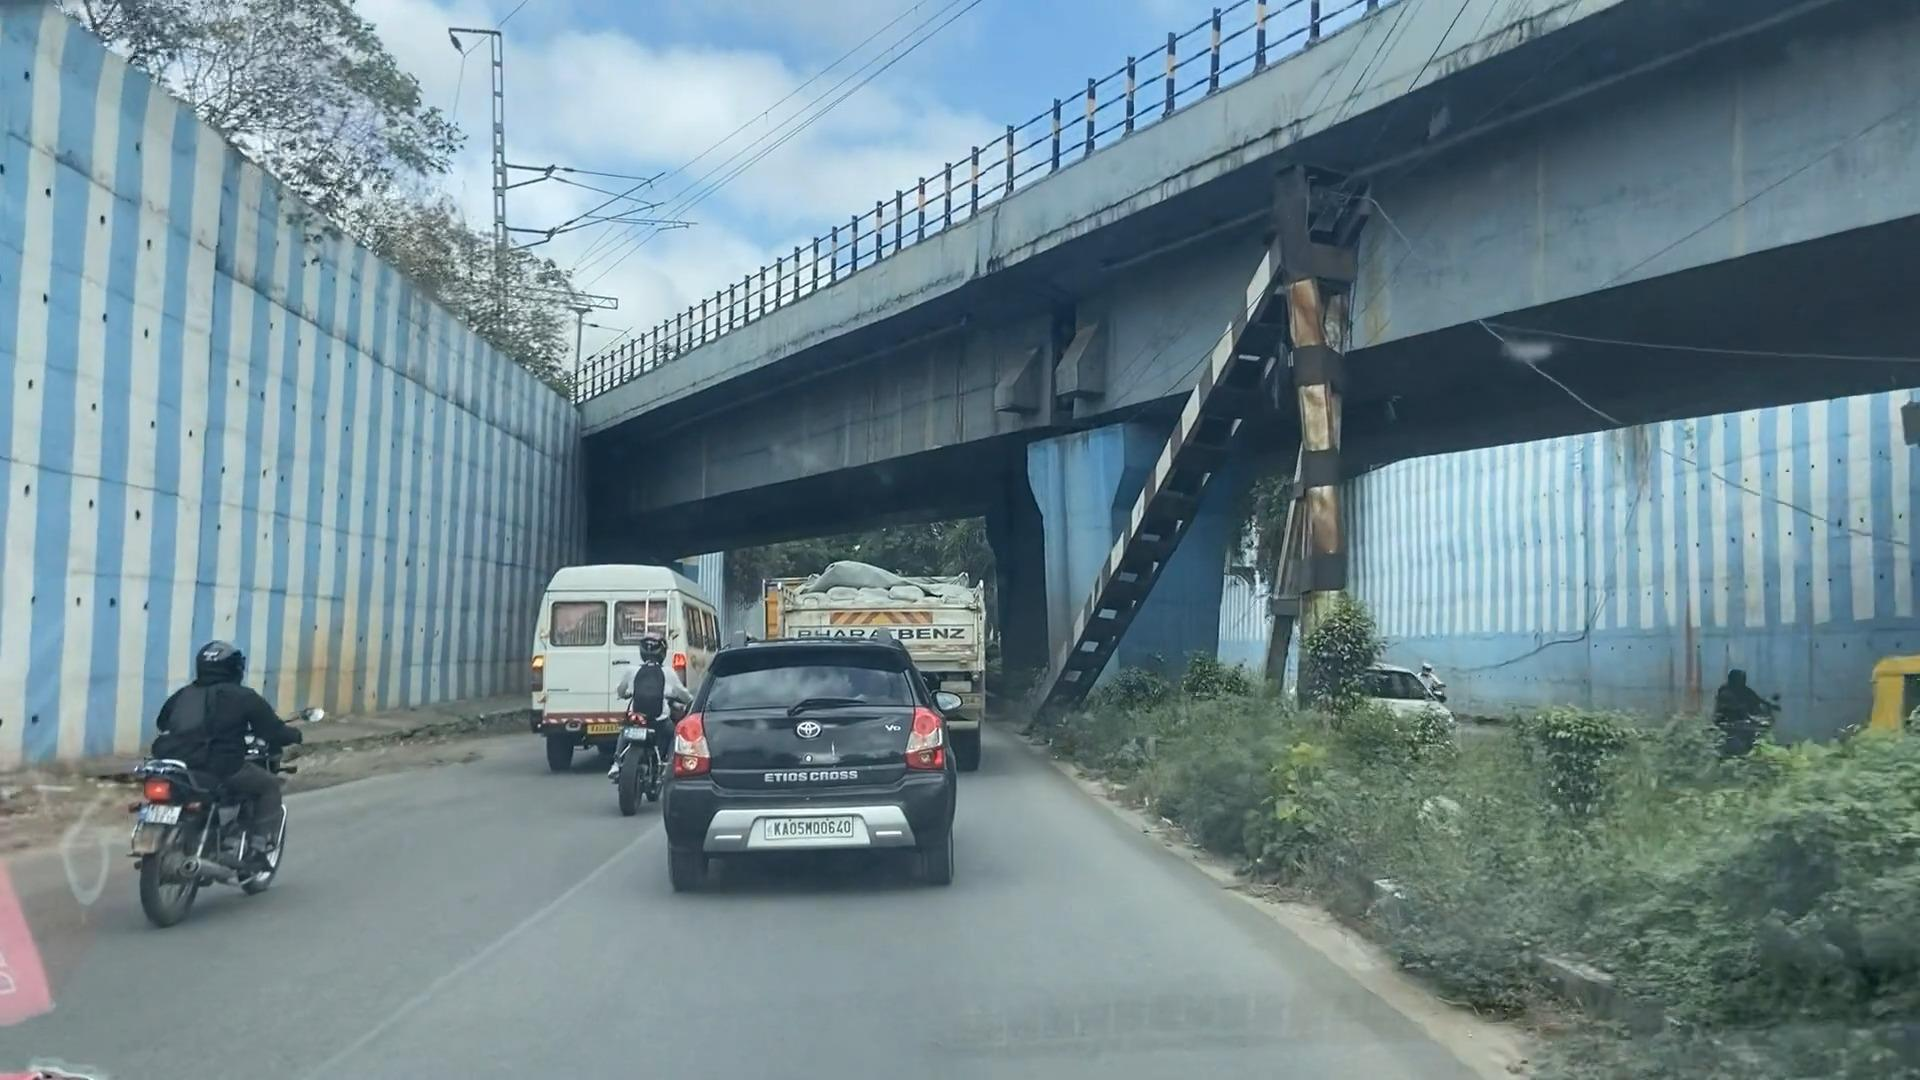HMV: (545, 560, 716, 760)
LMV: (655, 620, 965, 890), (115, 633, 339, 931), (612, 626, 690, 825)
